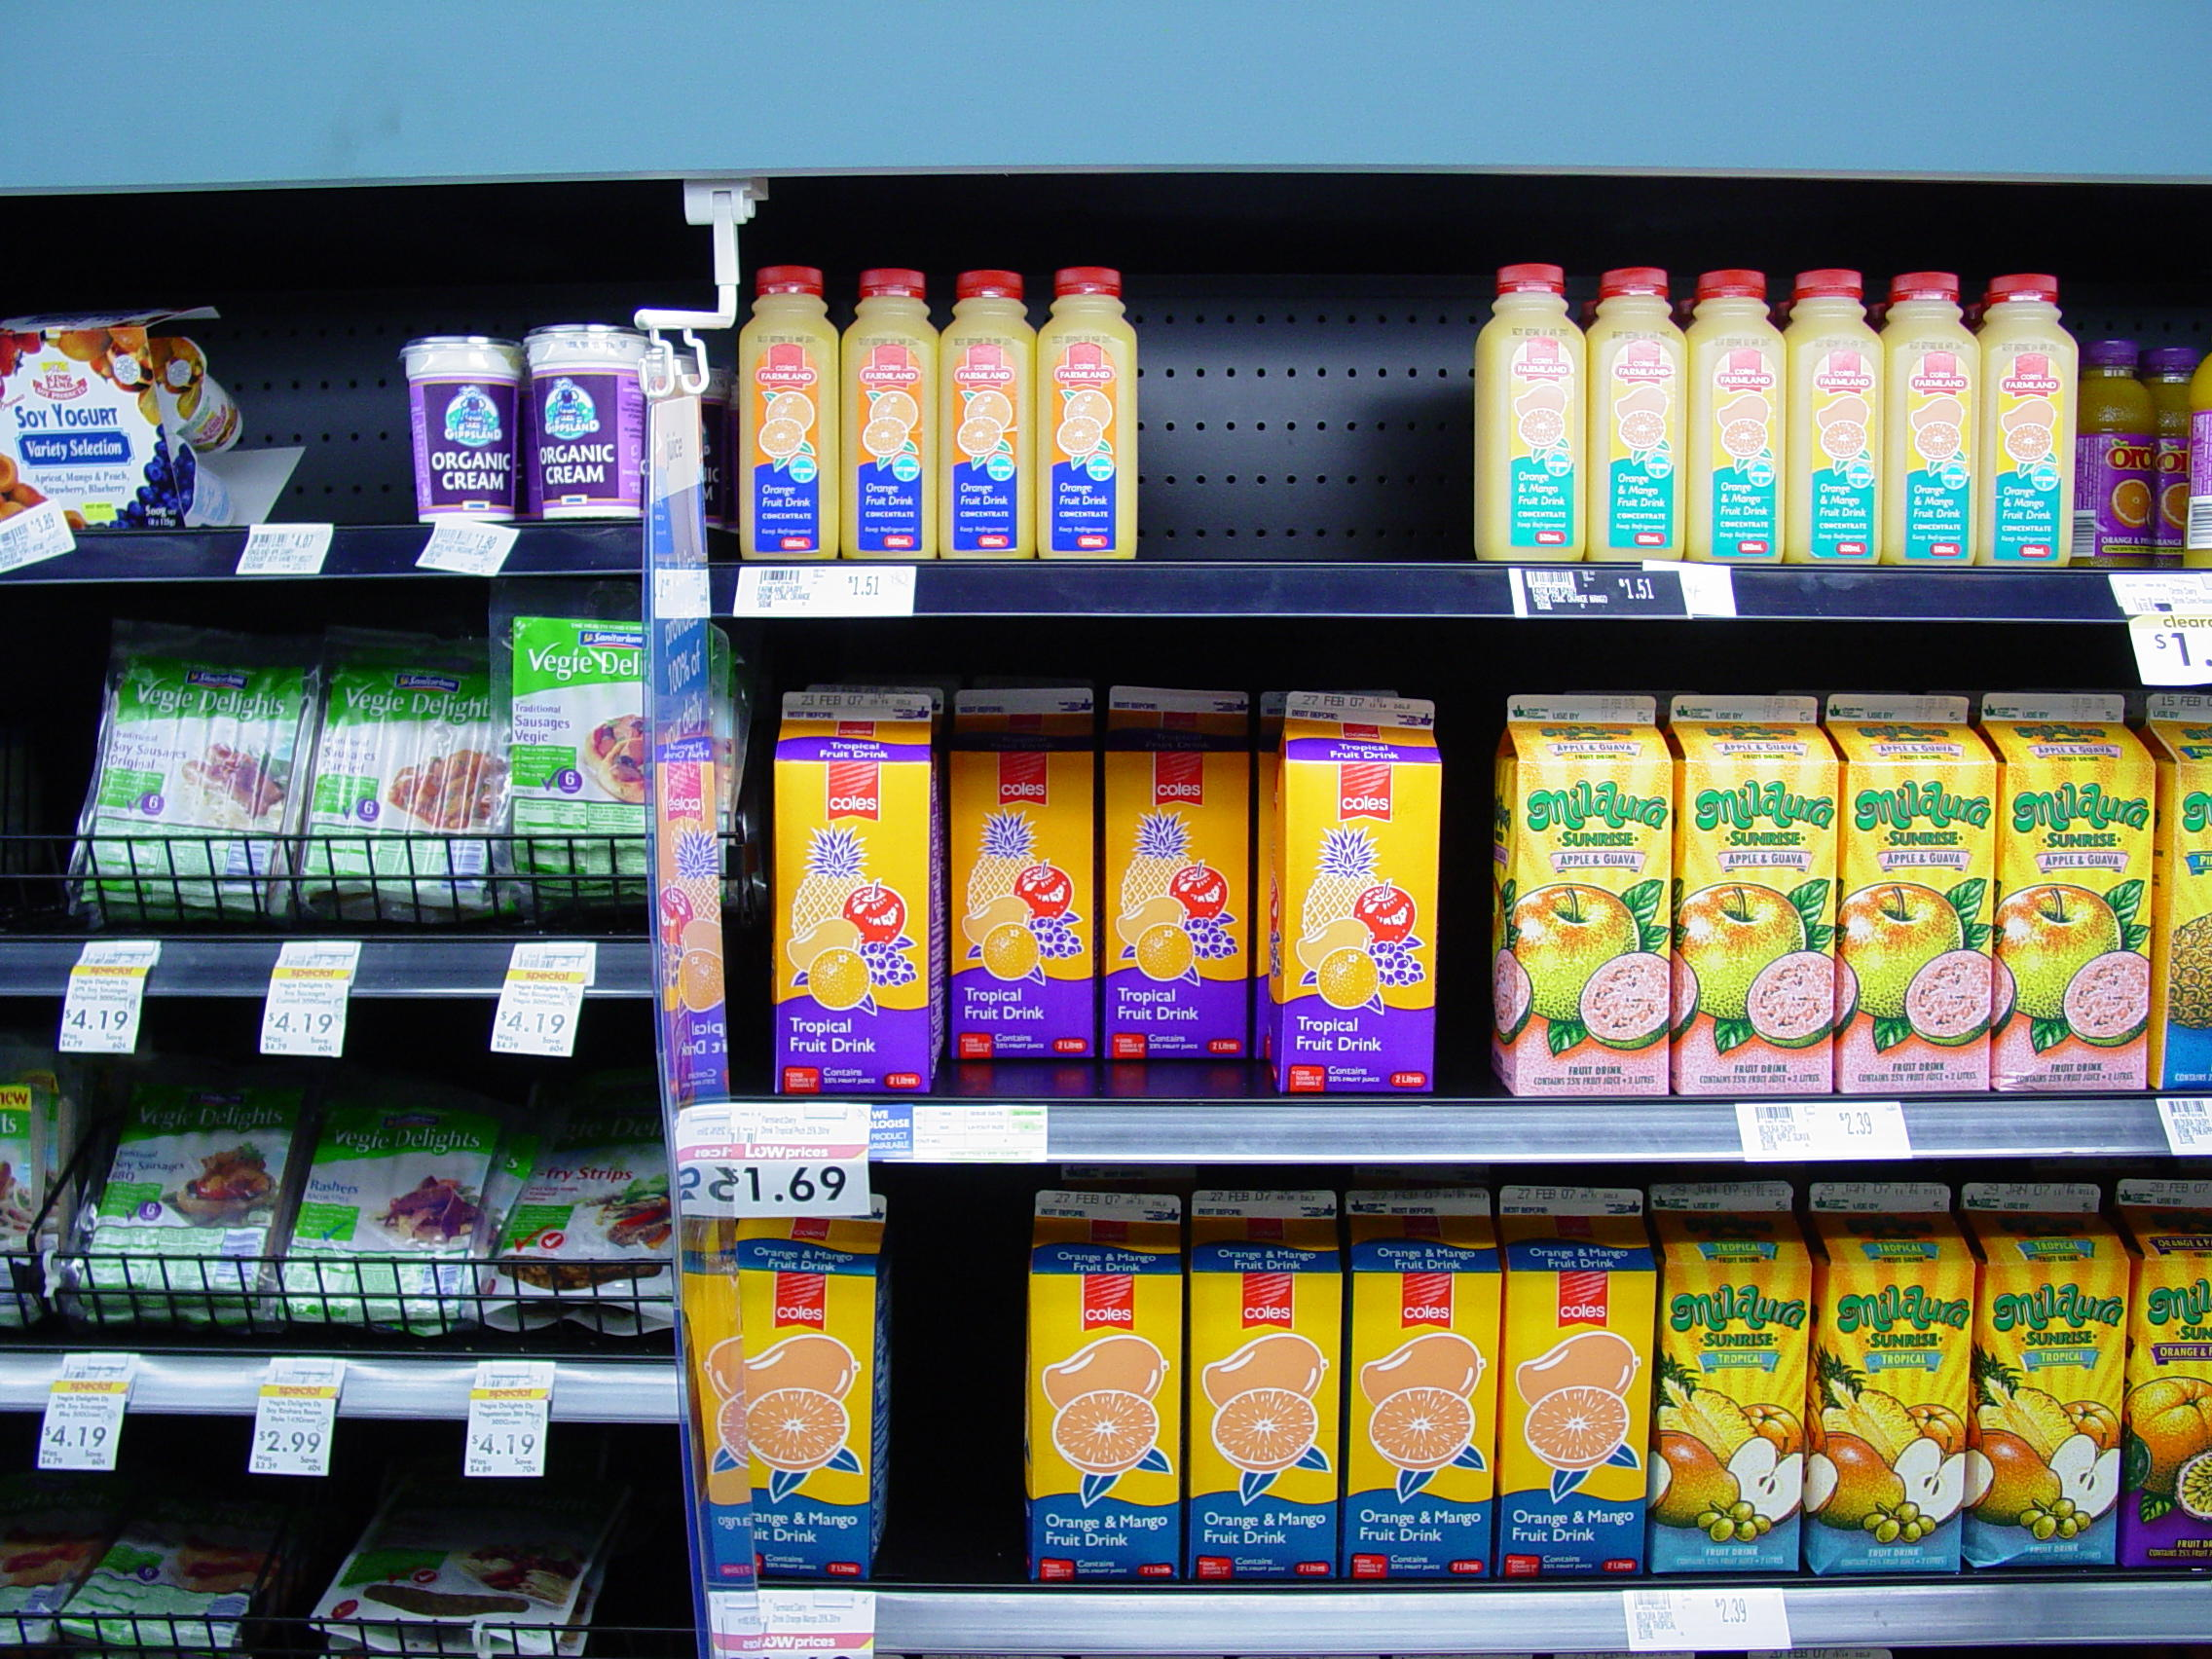Out-of-stock: (1150, 206, 1465, 566), (228, 218, 415, 523), (897, 1178, 1026, 1581)
